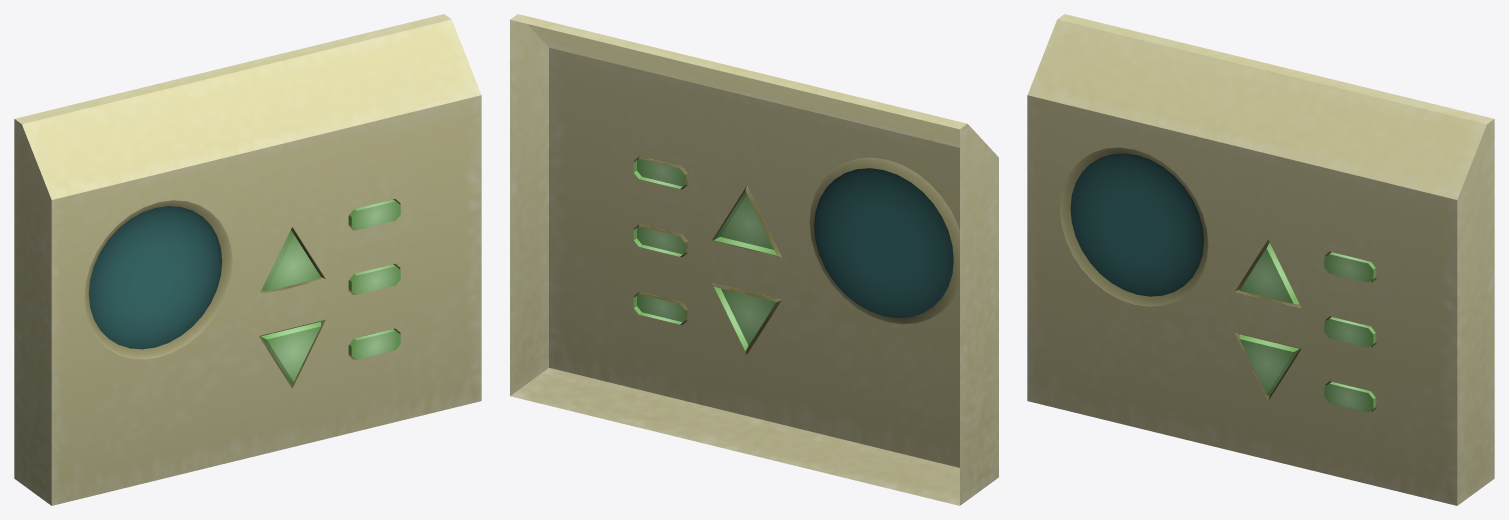
The model's file is Thermostat_1.fbx.
The picture shows the model from 3 angles, left to right: view 1: azimuth 30°, elevation 25°; view 2: azimuth 150°, elevation 25°; view 3: azimuth 330°, elevation 25°; orthographic projection. The views are drawn at different scales.
Visible parts, largest first — view 1: Thermostat_1; view 2: Thermostat_1; view 3: Thermostat_1.
Part boxes in pixels (left/top/right/bottom): Thermostat_1: left=14, top=14, right=481, bottom=505; Thermostat_1: left=510, top=14, right=998, bottom=505; Thermostat_1: left=1027, top=14, right=1494, bottom=505.
Size of the model in its own units: 12.7 by 1.98 by 10.16.
Materials: 1 (1 with a texture image).
